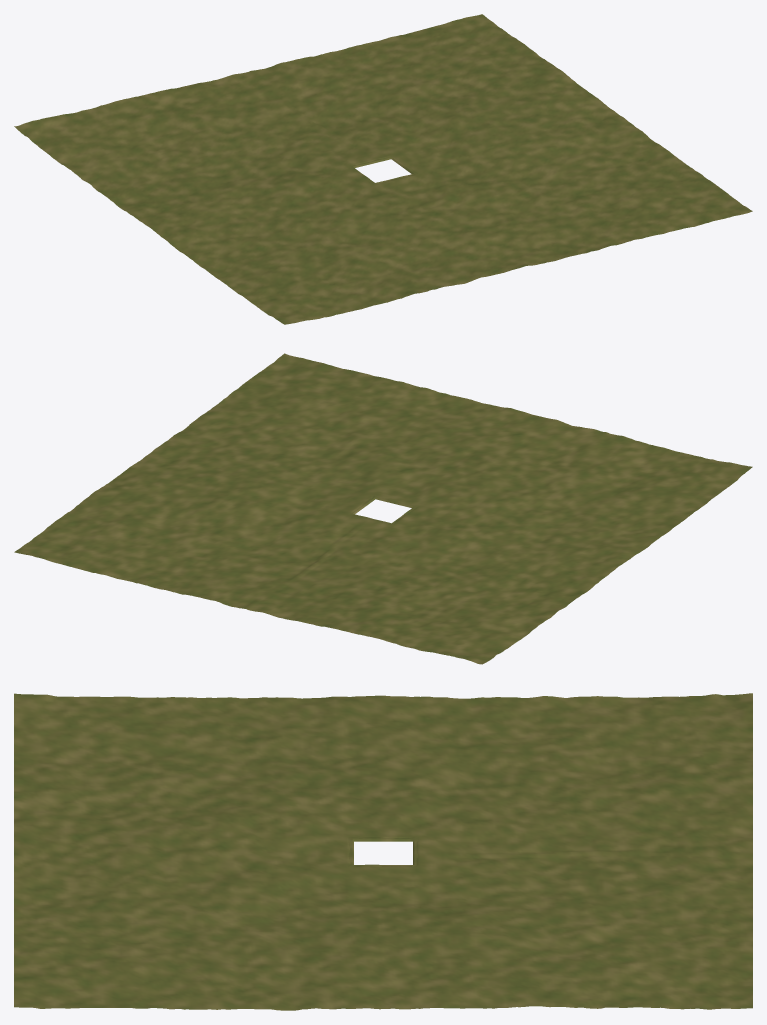
Rendered from serra-terrain.glb.
3 renders of one model, top to bottom at view 1: azimuth 30°, elevation 25°; view 2: azimuth 150°, elevation 25°; view 3: azimuth 270°, elevation 25°, orthographic. The views are drawn at different scales.
Parts seen in each view (by area): view 1: V8 · Relevo Campos de Cima da Serra; view 2: V8 · Relevo Campos de Cima da Serra; view 3: V8 · Relevo Campos de Cima da Serra.
Boxes of the visible parts, <box> form: V8 · Relevo Campos de Cima da Serra: <box>14,14,752,324</box>; V8 · Relevo Campos de Cima da Serra: <box>14,353,752,664</box>; V8 · Relevo Campos de Cima da Serra: <box>14,693,752,1010</box>.
Bounding box in the file's own units: 12000 × 153 × 12000.
